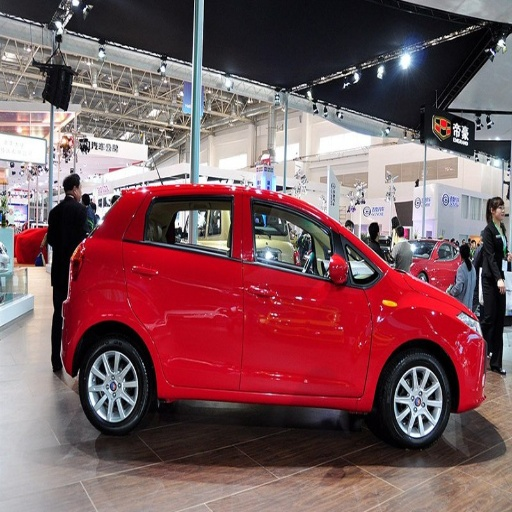back_right_door: (126, 194, 238, 383)
front_right_door: (242, 195, 372, 394)
